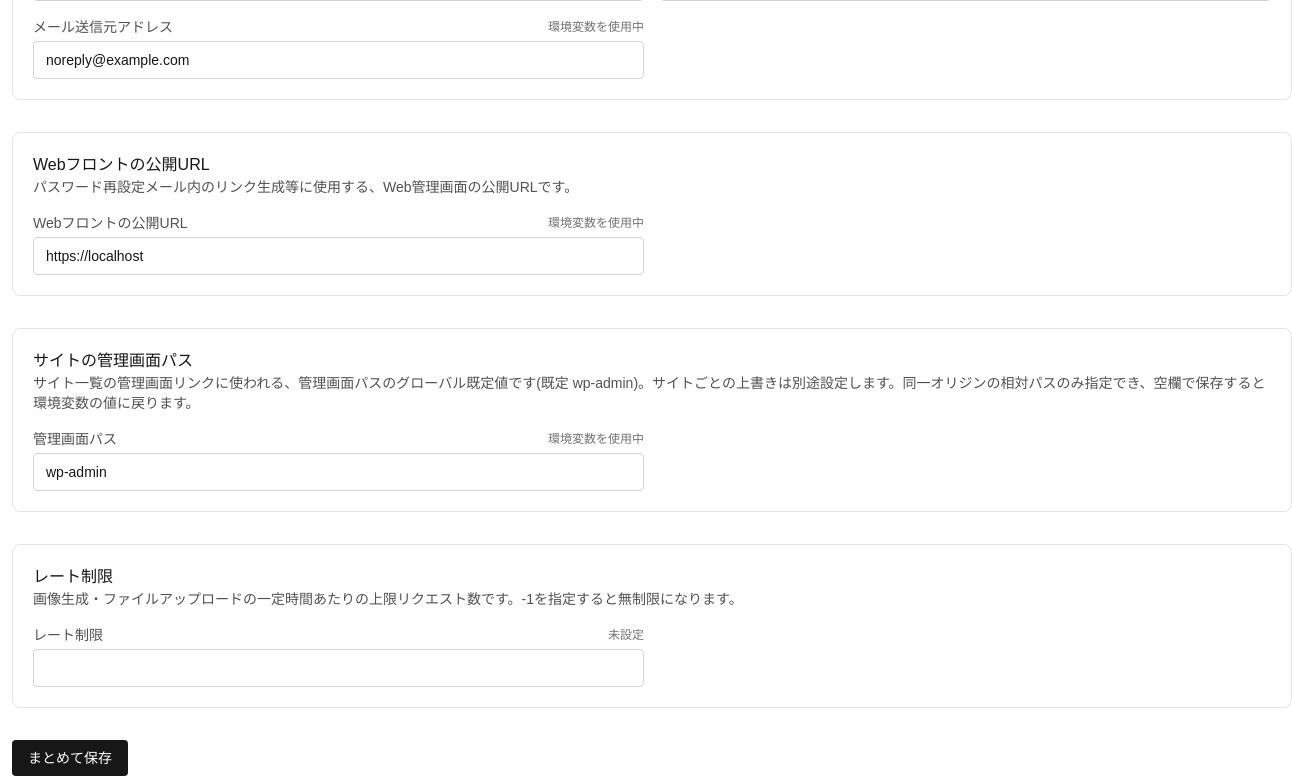
Scenario: AppSettingsPanel › 保存に失敗したときは、この保存操作での変更が反映されていないことを併せて示す
This screenshot has width=1292, height=776.
(page scrolled)
Click the button "まとめて保存". click: (70, 758)
box: [12,740,128,775]
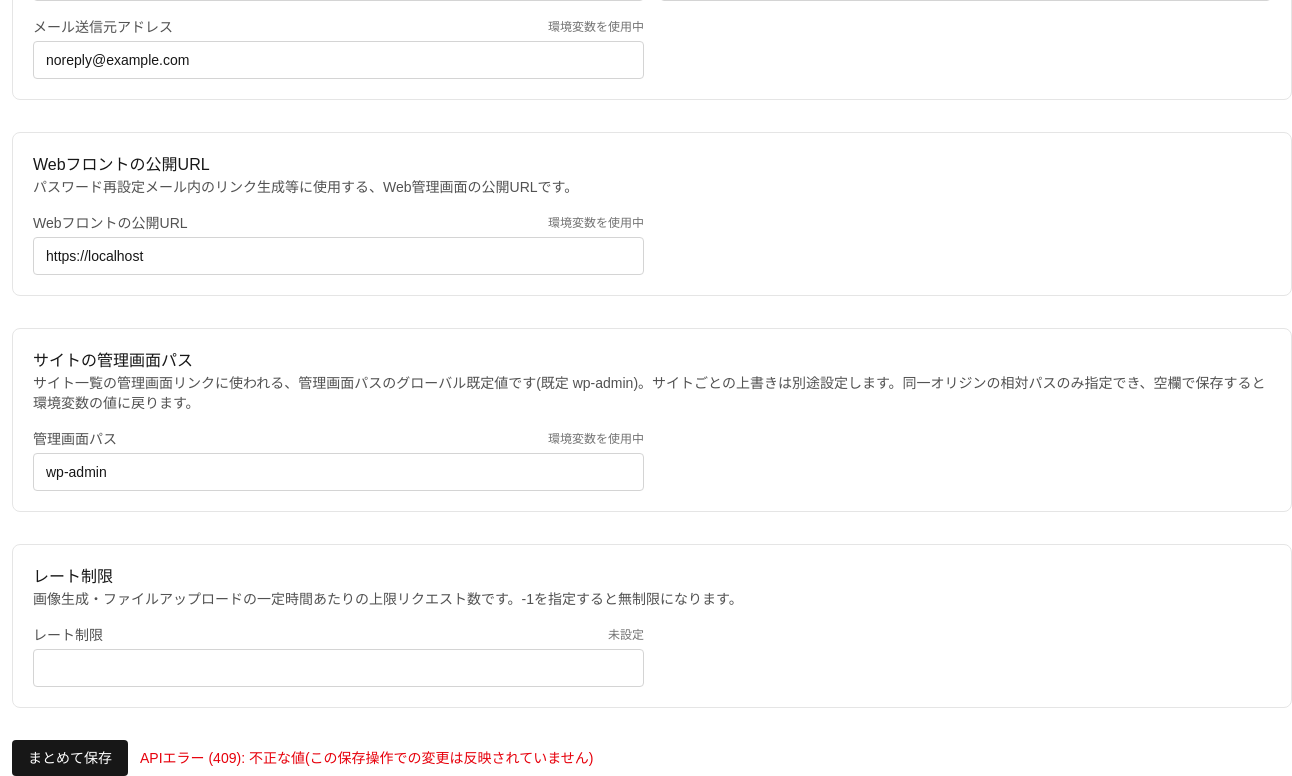
Check: the text "APIエラー (409): 不正な値(この保存操作での変更は反映されていません)" is shown, box [140,748,593,768]
